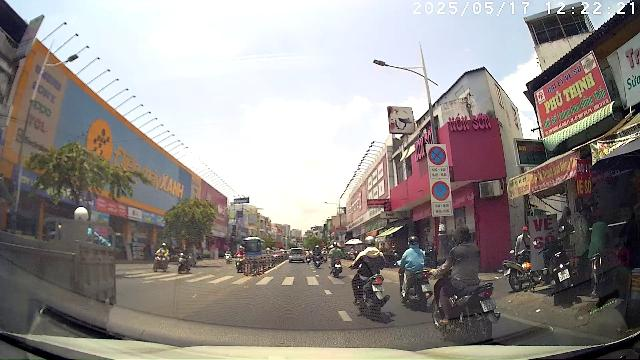130-cam-dung-va-do-xe: (428, 145, 447, 165)
131a-cam-do-xe: (431, 180, 450, 201)
